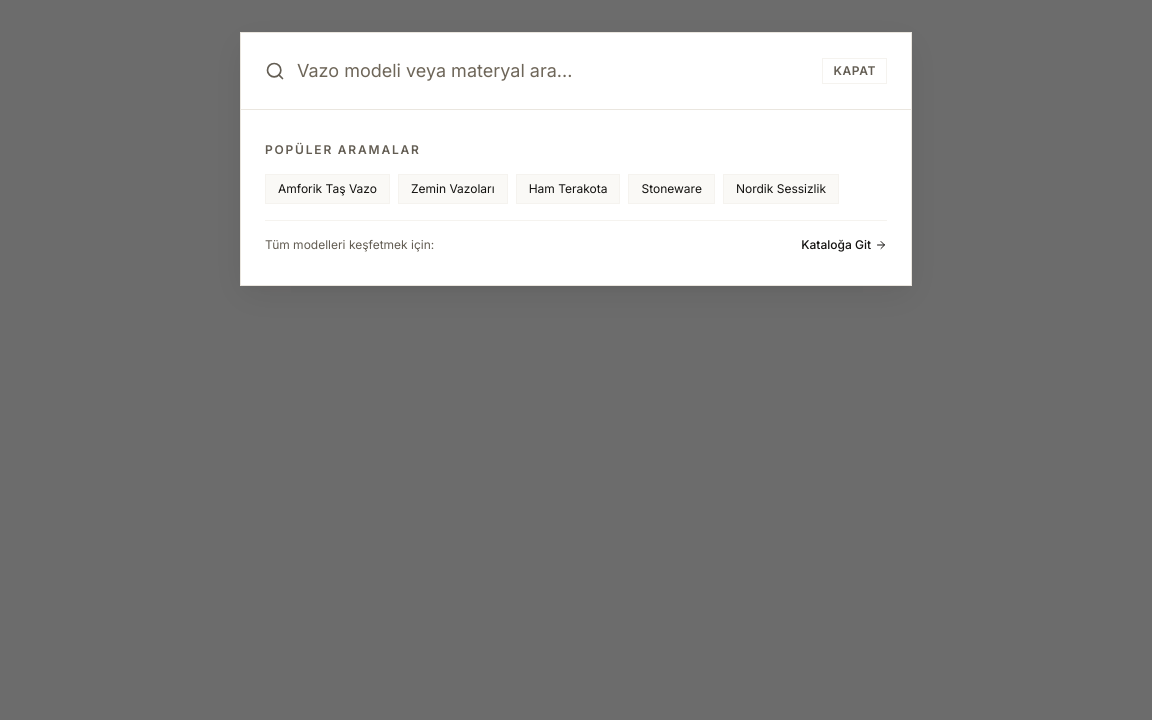
Test: SearchModal Component › shows no results message when query returns empty array
This screenshot has width=1152, height=720.
Type "BilinmeyenModel" into the search field with placeholder "Vazo modeli veya materyal ara..." at (554, 71), box [297,57,810,85]
Wait 250 ms
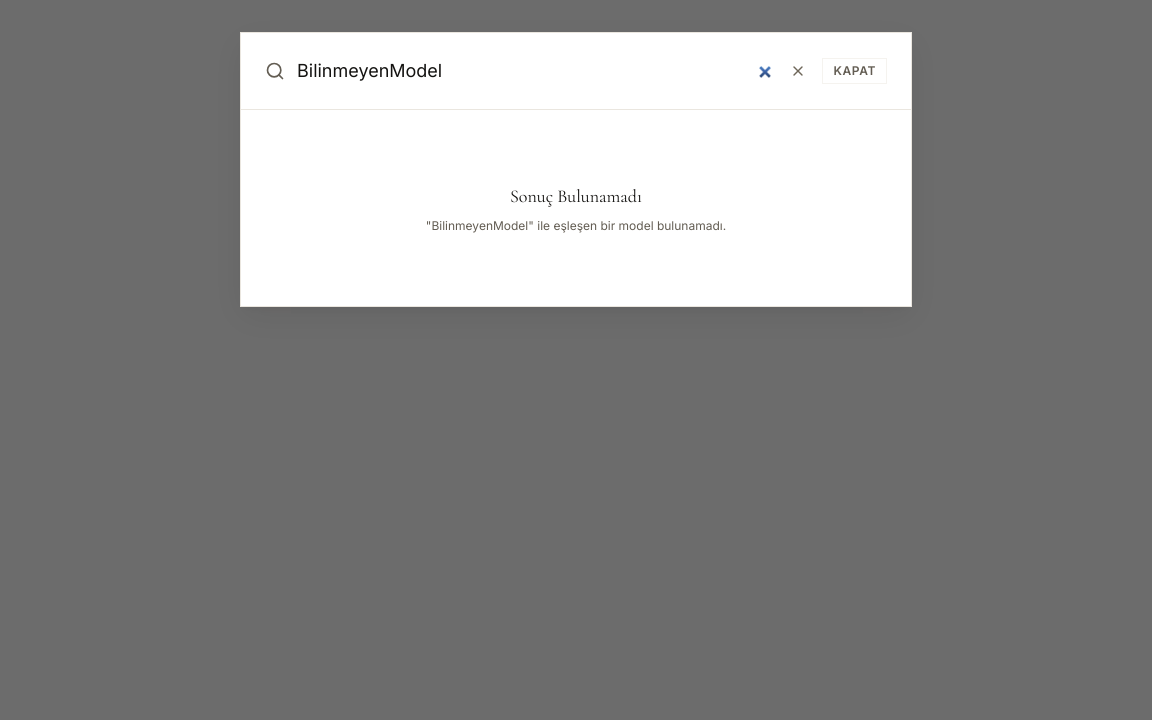
Expected: the text "Sonuç Bulunamadı" is shown, [510,185,642,207]
